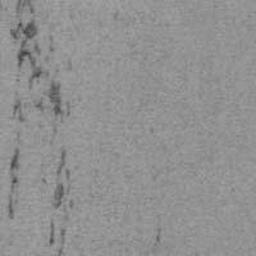Inclusion: (9, 0, 72, 138), (41, 148, 76, 210), (6, 146, 20, 221), (49, 220, 68, 256), (150, 228, 161, 248), (65, 58, 73, 72)
